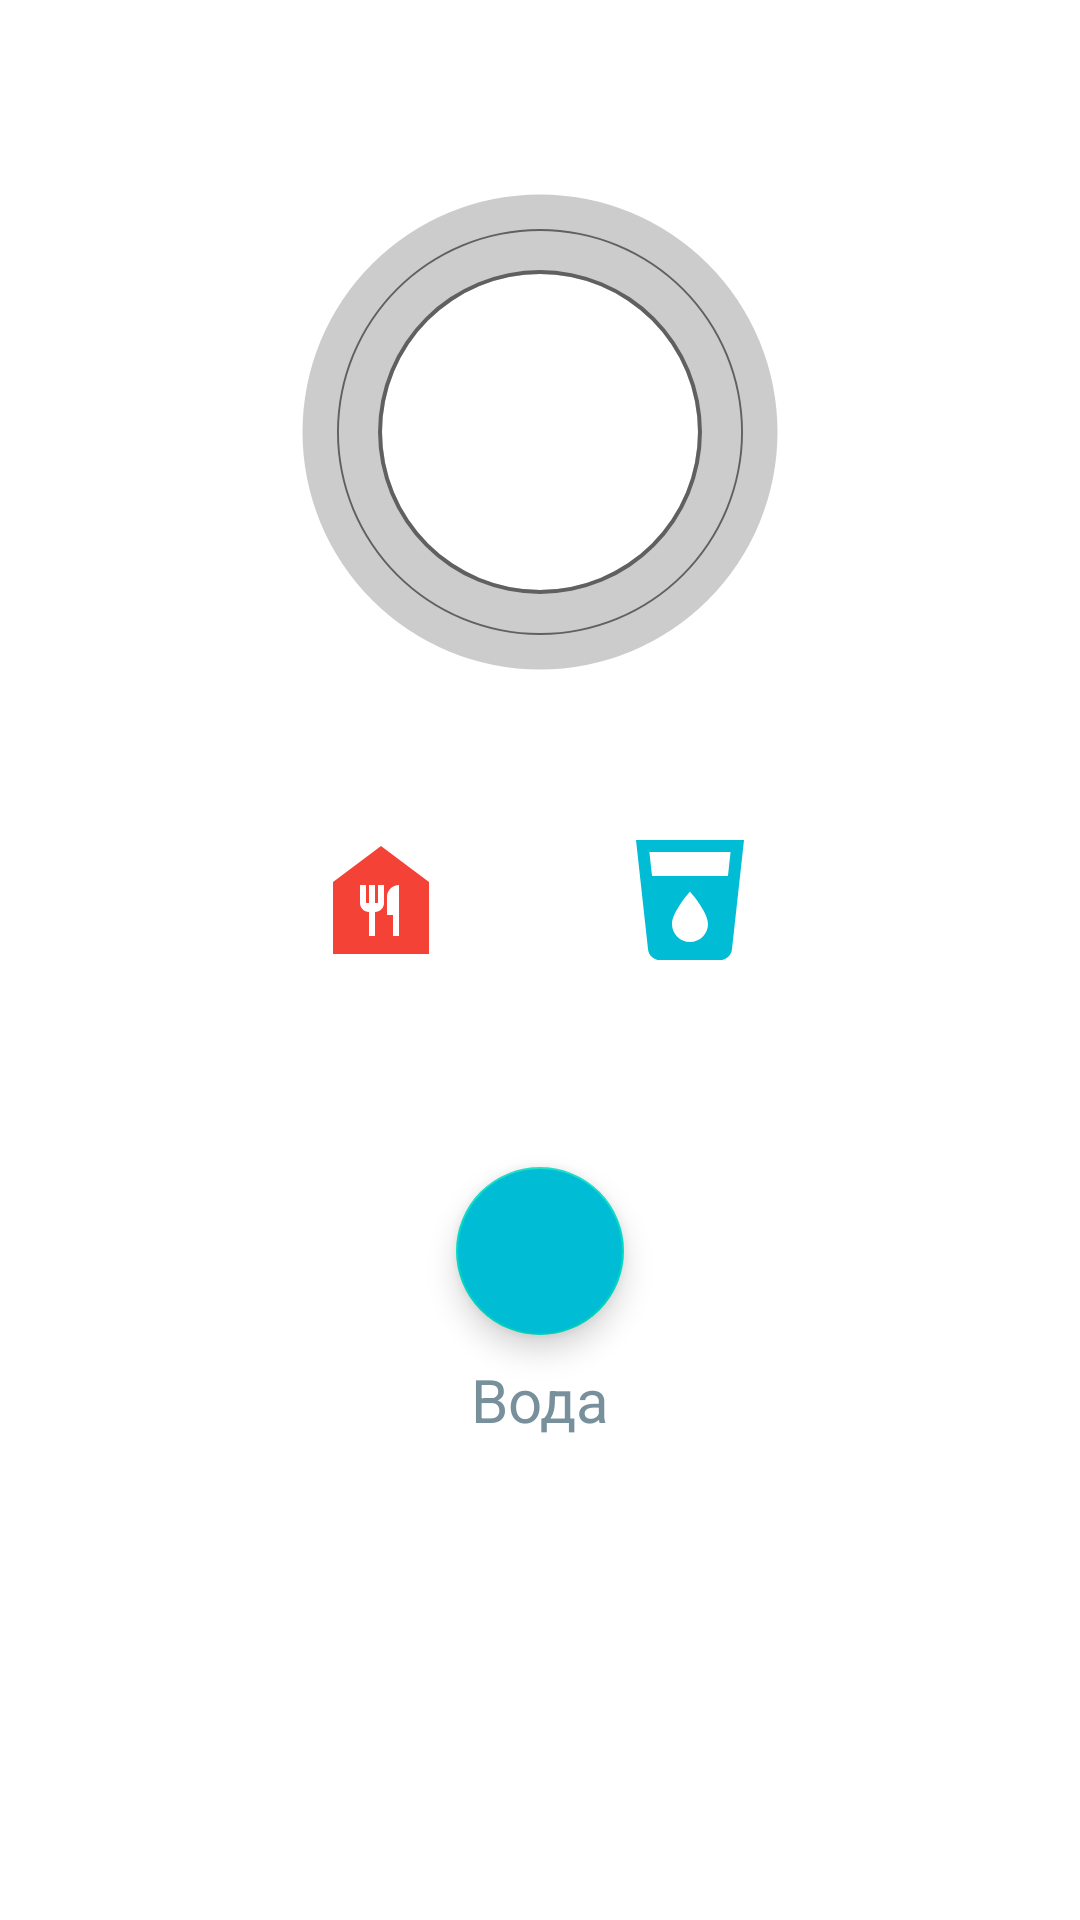

Where to tap for icons on this 1080w x 1920h app screen, as point (x, y):
kcal: point (381, 900)
water: point (690, 900)
